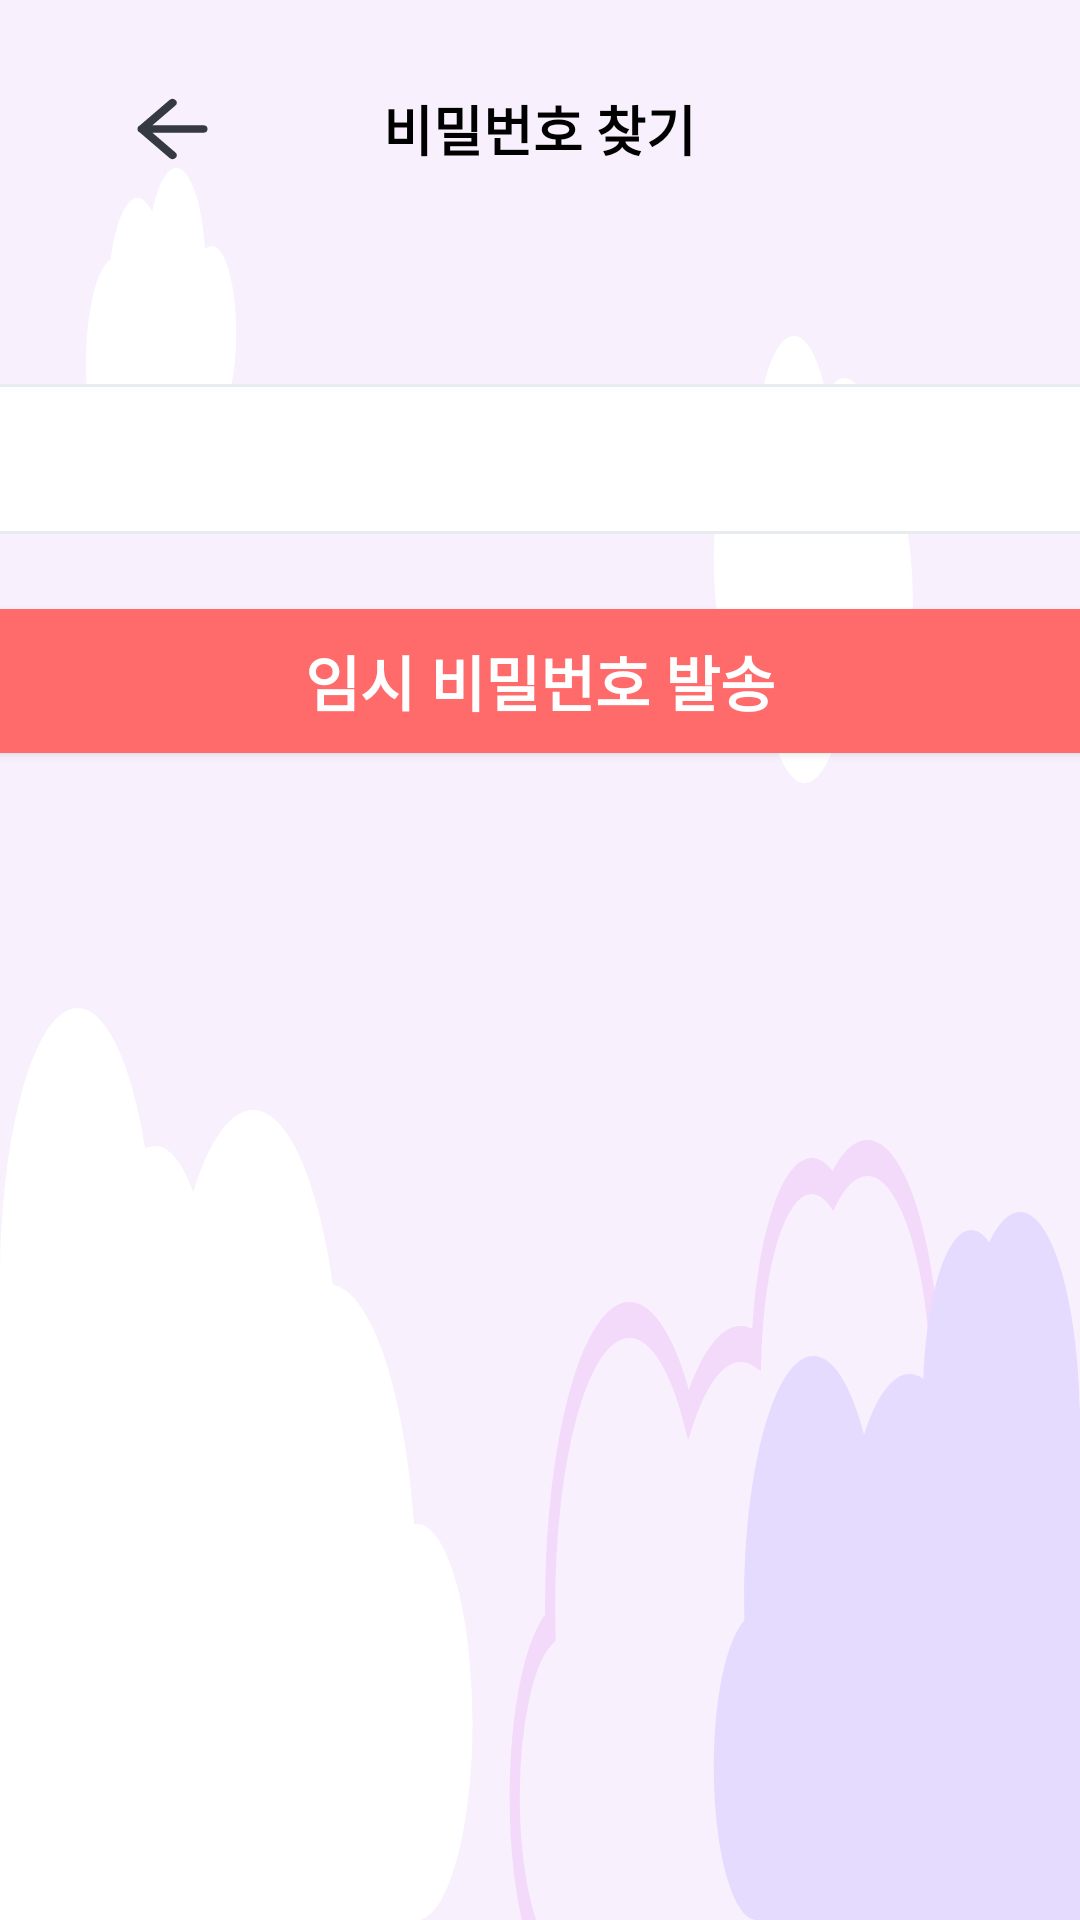

Icons on this 1080x1920 Android screen, each with the point to tap as [x,y]:
left: [172,129]
